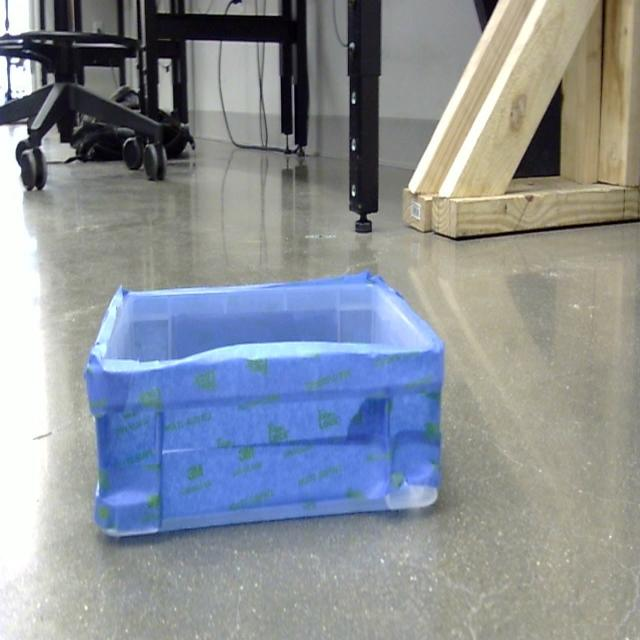bucket: (83, 273, 446, 545)
